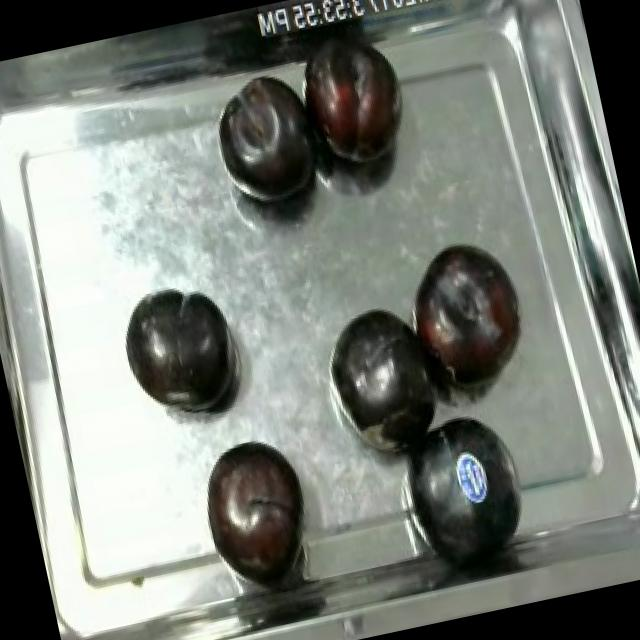Fruit: (384, 393, 544, 576), (393, 227, 541, 404), (110, 272, 250, 429), (287, 25, 423, 184), (202, 59, 335, 220), (190, 425, 322, 587), (317, 292, 452, 437)
